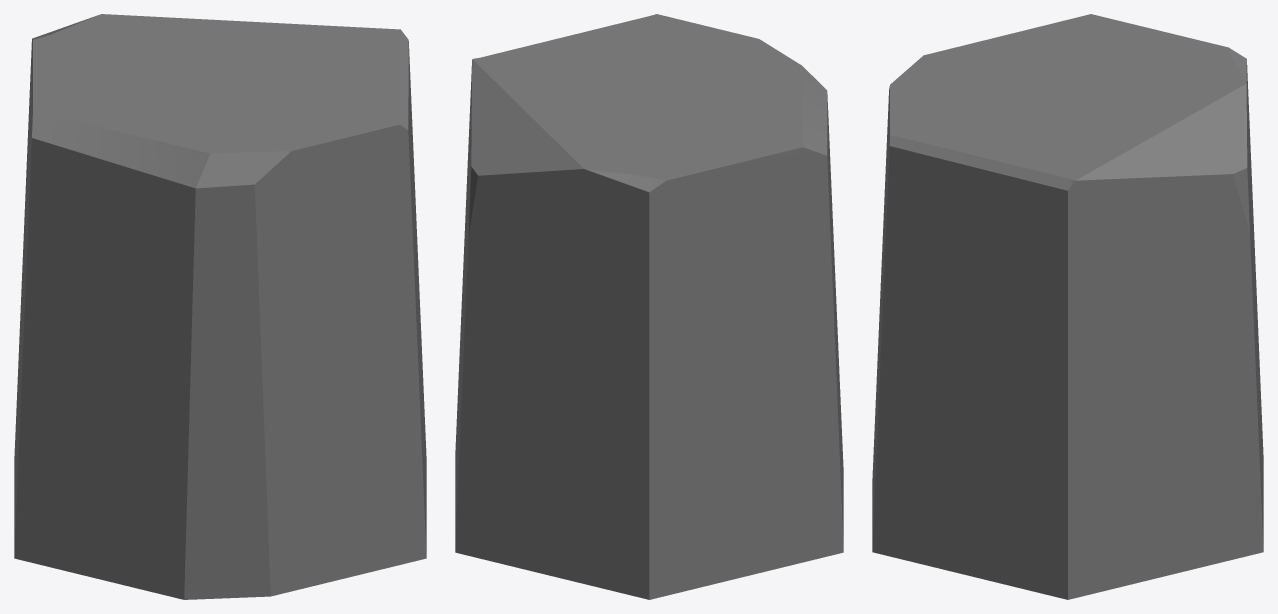
File: rock8.fbx
The picture shows the model from 3 angles, left to right: view 1: azimuth 30°, elevation 25°; view 2: azimuth 150°, elevation 25°; view 3: azimuth 270°, elevation 25°; orthographic projection. The views are drawn at different scales.
Visible parts, largest first — view 1: rock7; view 2: rock7; view 3: rock7.
Boxes of the visible parts, bbox=[...] form: rock7: bbox=[14, 14, 426, 599]; rock7: bbox=[455, 14, 843, 599]; rock7: bbox=[872, 14, 1263, 599].
Bounding box in the file's own units: 947 × 947 × 820.
